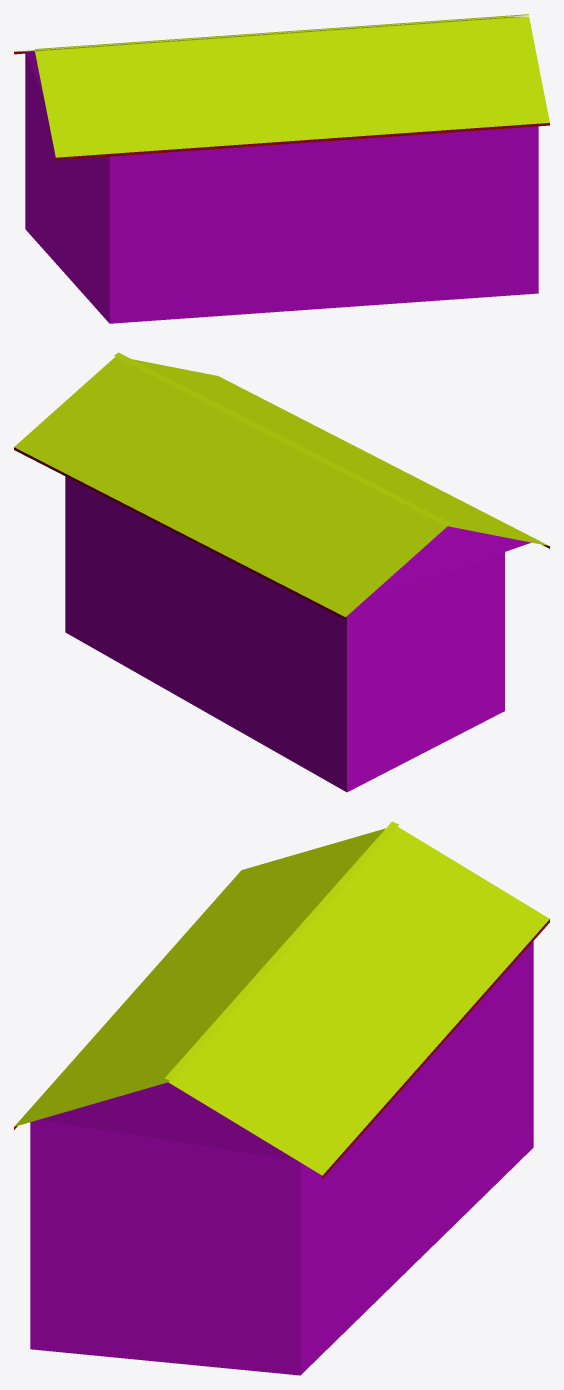
Rendered from bgj_285.glb.
3 views of the same model, one above another, from view 1: azimuth 30°, elevation 25°; view 2: azimuth 150°, elevation 25°; view 3: azimuth 270°, elevation 25° (orthographic). The views are drawn at different scales.
Visible parts, largest first — view 1: bgj_285; view 2: bgj_285; view 3: bgj_285.
Part boxes in pixels (x1,y1,x2,y2): bgj_285: (14,14,549,323); bgj_285: (14,352,549,792); bgj_285: (14,821,549,1375).
Bounding box in the file's own units: 22.64 × 10.29 × 16.78.
